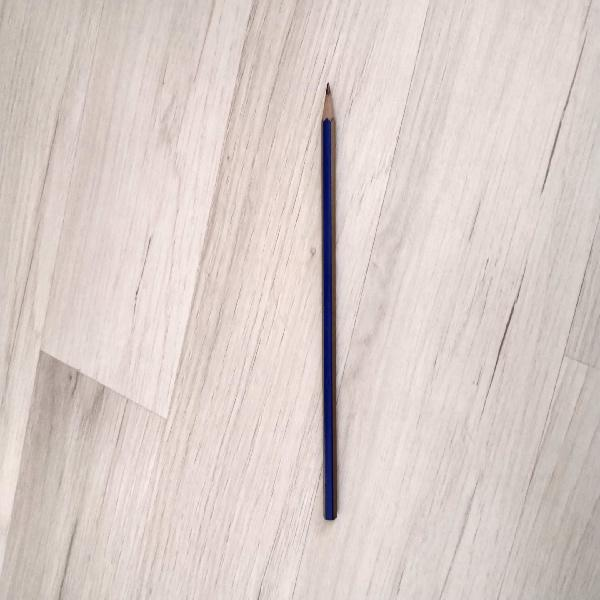pencil: (322, 83, 337, 520)
